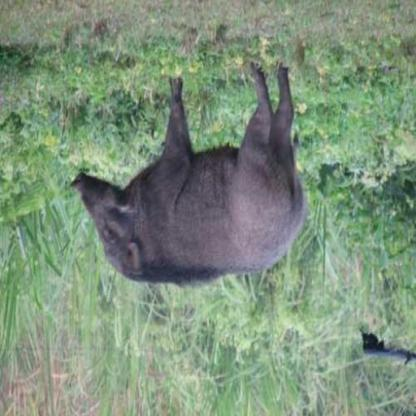boar: (70, 48, 324, 310)
